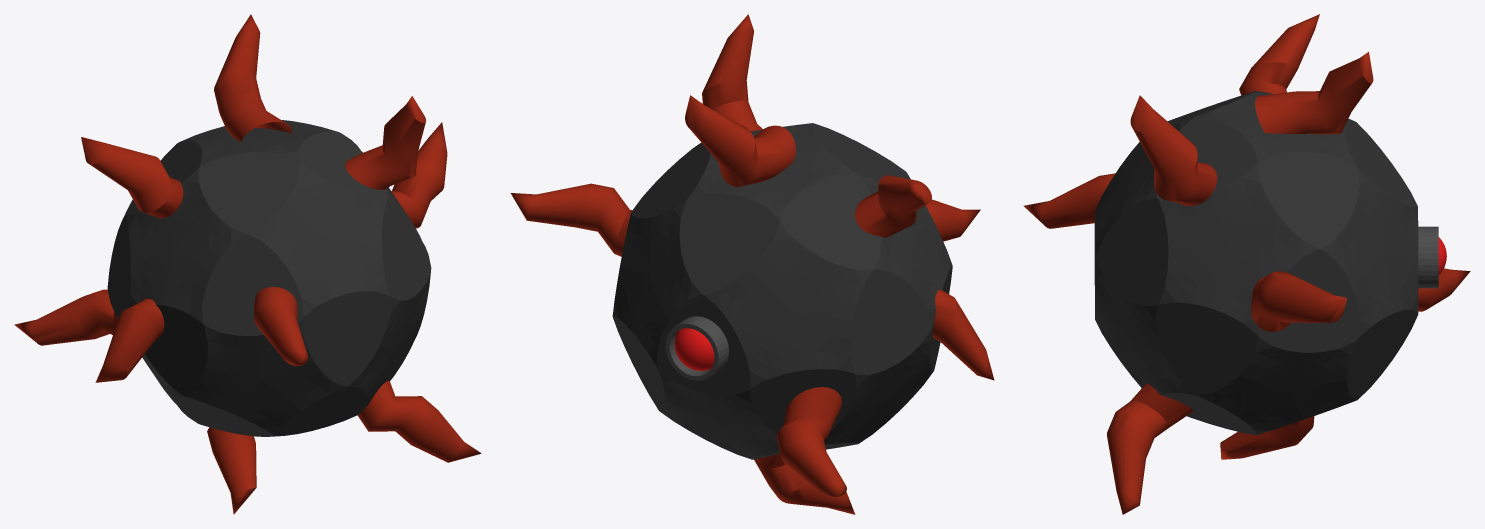
Rendered from shotEnemy.obj.
The picture shows the model from 3 angles, left to right: view 1: azimuth 30°, elevation 25°; view 2: azimuth 150°, elevation 25°; view 3: azimuth 270°, elevation 25°; orthographic projection. The views are drawn at different scales.
Visible parts, largest first — view 1: ICO球, 円柱.003, 円柱.008, 円柱.001, 円柱.004, 円柱.005, 円柱.007, 円柱.002, 円柱.006, 円柱.009; view 2: ICO球, 円柱.008, 円柱.005, 円柱.002, 円柱.004, 円柱.001, 円柱.007, 円柱.009, 円柱, 球, 円柱.006; view 3: ICO球, 円柱.008, 円柱.003, 円柱.004, 円柱.002, 円柱.001, 円柱.006, 円柱.009, 円柱, 円柱.005.
Boxes of the visible parts, x1,y1,x2,y2 form: ICO球: [107, 120, 431, 436]; 円柱.003: [357, 380, 481, 462]; 円柱.008: [214, 14, 291, 141]; 円柱.001: [81, 137, 183, 218]; 円柱.004: [345, 96, 426, 189]; 円柱.005: [14, 289, 118, 345]; 円柱.007: [95, 298, 164, 382]; 円柱.002: [391, 122, 447, 228]; 円柱.006: [254, 287, 308, 365]; 円柱.009: [207, 427, 256, 514]; ICO球: [612, 123, 952, 459]; 円柱.008: [685, 95, 795, 186]; 円柱.005: [777, 387, 846, 497]; 円柱.002: [510, 183, 631, 256]; 円柱.004: [702, 14, 762, 131]; 円柱.001: [855, 175, 931, 237]; 円柱.007: [932, 289, 994, 380]; 円柱.009: [754, 454, 855, 514]; 円柱: [665, 316, 728, 380]; 球: [674, 328, 714, 370]; 円柱.006: [926, 199, 980, 241]; ICO球: [1094, 91, 1418, 435]; 円柱.008: [1255, 51, 1373, 134]; 円柱.003: [1107, 383, 1192, 514]; 円柱.004: [1130, 95, 1217, 206]; 円柱.002: [1251, 271, 1346, 331]; 円柱.001: [1239, 14, 1319, 95]; 円柱.006: [1023, 173, 1115, 228]; 円柱.009: [1220, 416, 1314, 459]; 円柱: [1418, 226, 1438, 288]; 円柱.005: [1418, 268, 1470, 311].
Bounding box in the file's own units: 2.42 × 2.46 × 2.2.
1 material, 1 textured.
